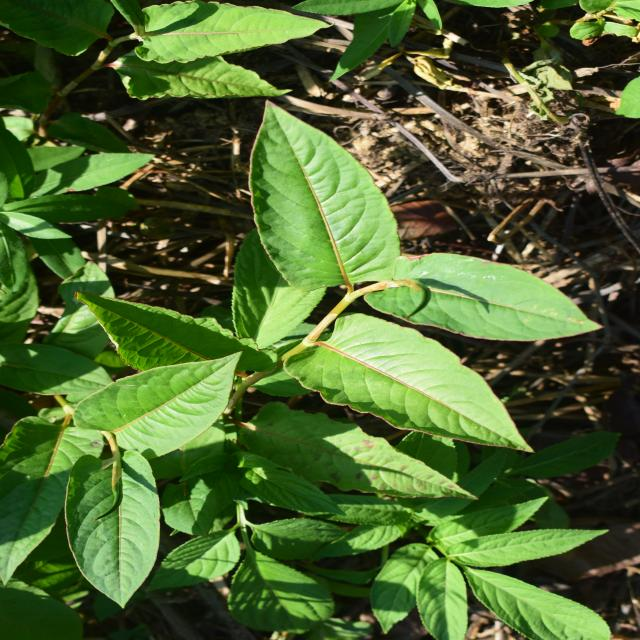Chinese_knotweed: (210, 227, 514, 582), (49, 0, 289, 260)
